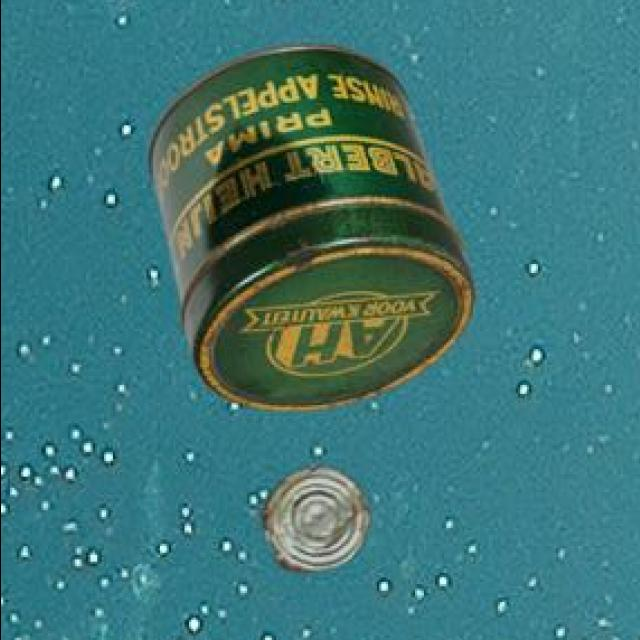logam: (151, 41, 478, 408), (265, 464, 373, 567)
